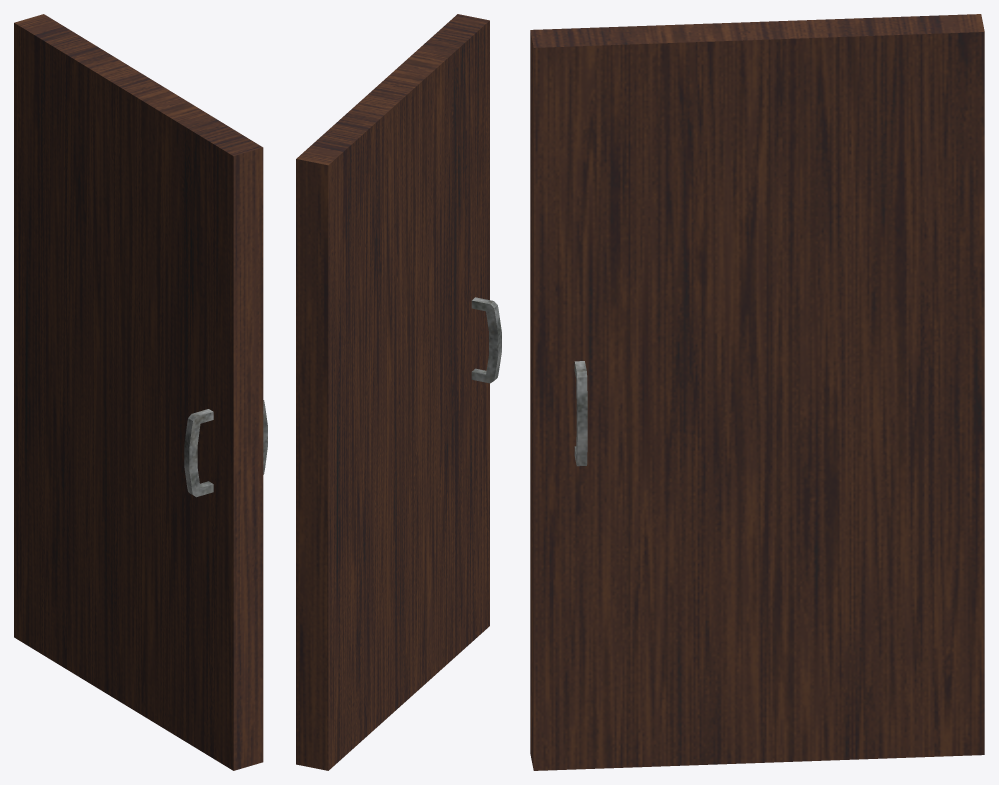
The model's file is DoorAnim2.fbx.
3 views of the same model, side by side, from view 1: azimuth 30°, elevation 25°; view 2: azimuth 150°, elevation 25°; view 3: azimuth 270°, elevation 25° (orthographic). The views are drawn at different scales.
Visible parts, largest first — view 1: pCube21, pCube42; view 2: pCube21, pCube42; view 3: pCube21, pCube43.
Boxes of the visible parts, box(x1,y1,x2,y2) form: pCube21: box(14, 14, 263, 770); pCube42: box(184, 409, 213, 497); pCube21: box(296, 14, 489, 770); pCube42: box(471, 297, 501, 383); pCube21: box(530, 14, 984, 770); pCube43: box(574, 361, 587, 466).
Size of the model in its own units: 45.67 by 322 by 184.
